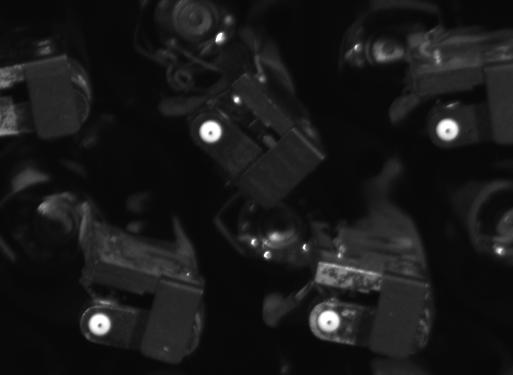fiber: (193, 114, 231, 147), (432, 112, 467, 146), (83, 308, 118, 340), (309, 307, 347, 335)
